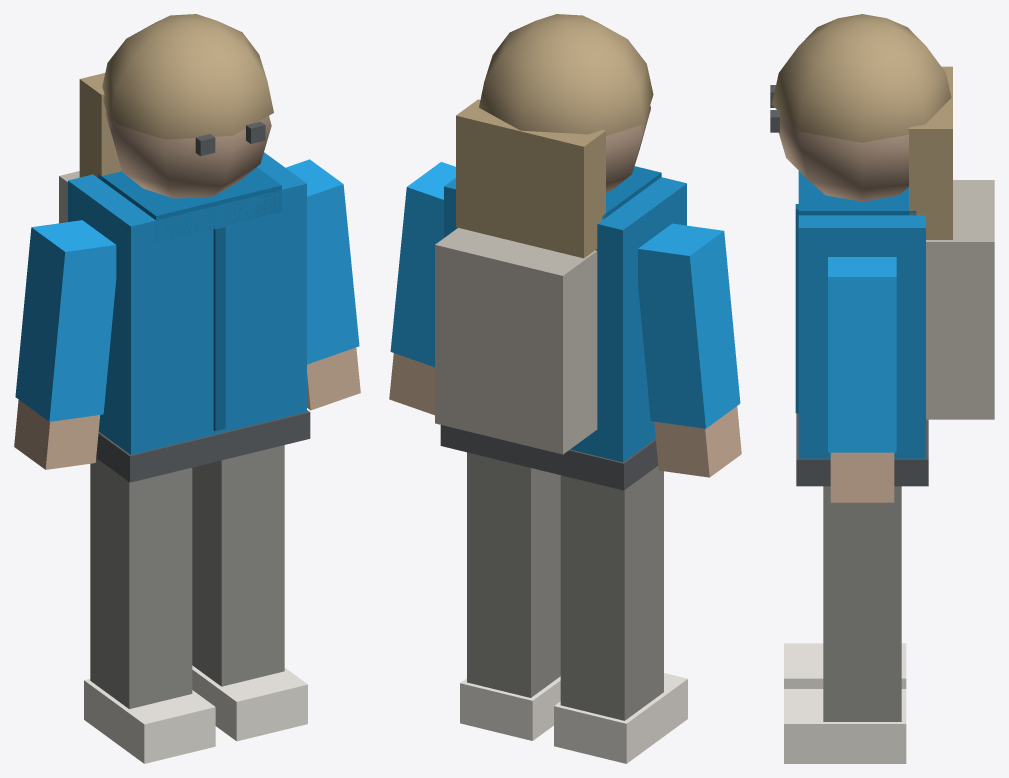
The model's file is actor_0.glb.
The picture shows the model from 3 angles, left to right: view 1: azimuth 30°, elevation 25°; view 2: azimuth 150°, elevation 25°; view 3: azimuth 270°, elevation 25°; orthographic projection.
Visible parts, largest first — view 1: pedestrian:cffffff, leg_0:cffffff, leg_1:cffffff, arm_0:cffffff, arm_1:cffffff; view 2: pedestrian:cffffff, leg_0:cffffff, leg_1:cffffff, arm_0:cffffff, arm_1:cffffff; view 3: pedestrian:cffffff, leg_1:cffffff, arm_1:cffffff, leg_0:cffffff.
Boxes of the visible parts, x1,y1,x2,y2 form: pedestrian:cffffff: (59,14,310,482); leg_0:cffffff: (84,458,215,763); leg_1:cffffff: (192,445,307,741); arm_0:cffffff: (14,220,116,469); arm_1:cffffff: (285,159,360,410); pedestrian:cffffff: (435,14,686,490); leg_0:cffffff: (554,466,687,763); leg_1:cffffff: (460,452,560,740); arm_0:cffffff: (638,223,741,477); arm_1:cffffff: (389,162,455,415); pedestrian:cffffff: (770,14,994,486); leg_1:cffffff: (784,486,906,763); arm_1:cffffff: (828,257,896,502); leg_0:cffffff: (784,643,906,688).
Size of the model in its own units: 0.7512 by 1.58 by 0.458.
